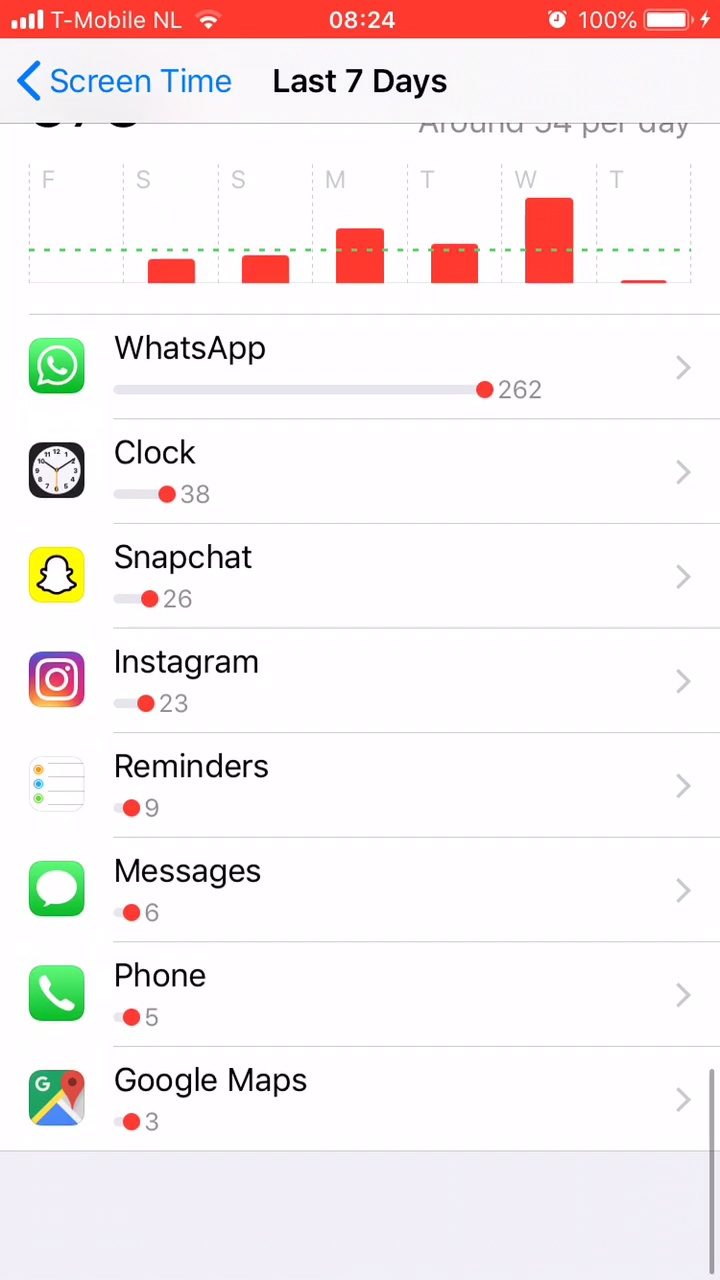not_app: (18, 326, 568, 421), (17, 732, 299, 838), (20, 1054, 332, 1149), (20, 422, 303, 524), (17, 842, 299, 942), (17, 628, 291, 730), (20, 530, 287, 625), (20, 946, 248, 1047)
week: (260, 60, 458, 105)
